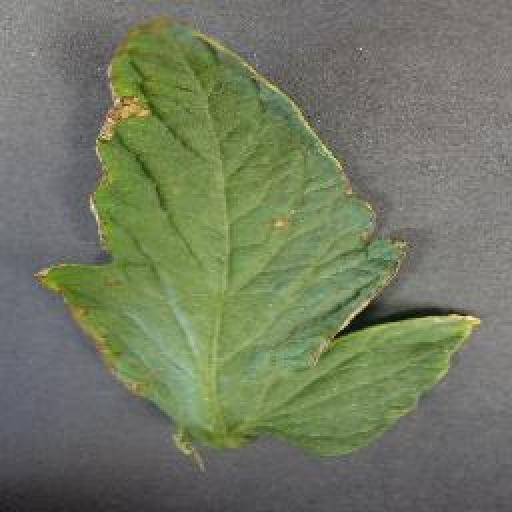Bacterial Spot: (24, 10, 485, 454)
